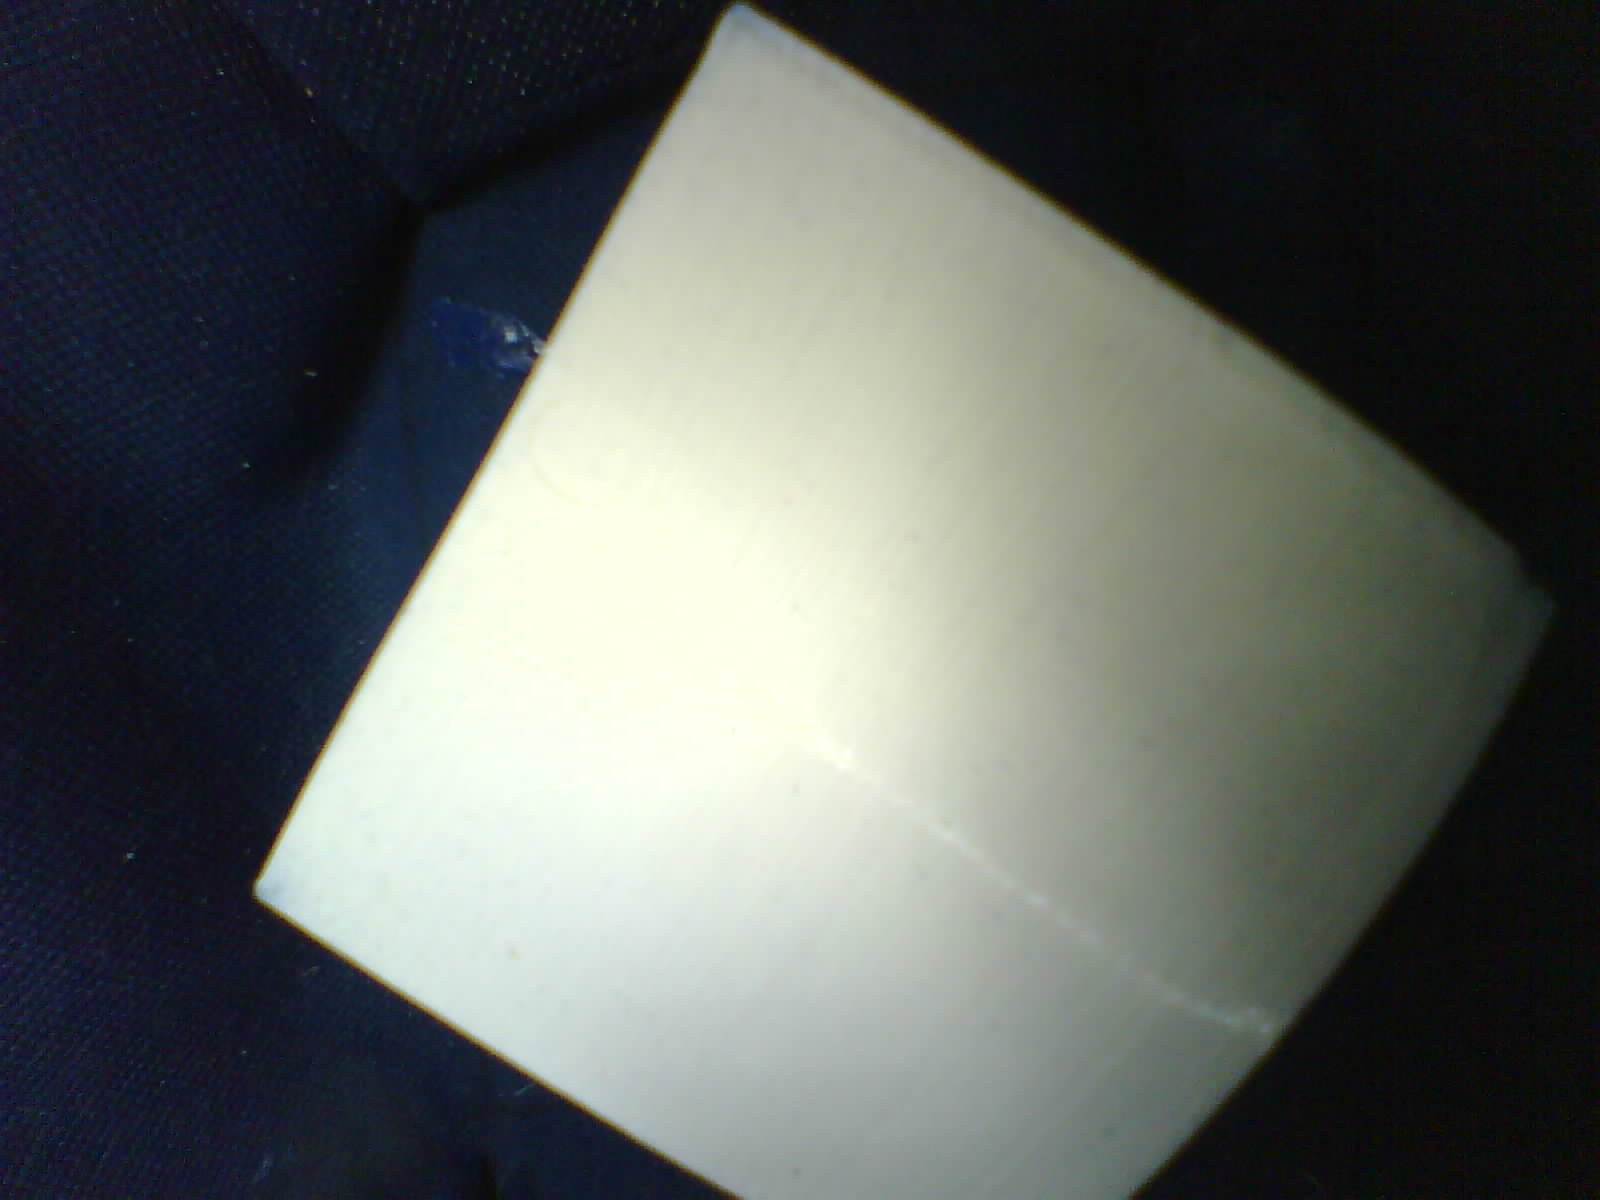cube-hard: (242, 0, 1566, 1200)
